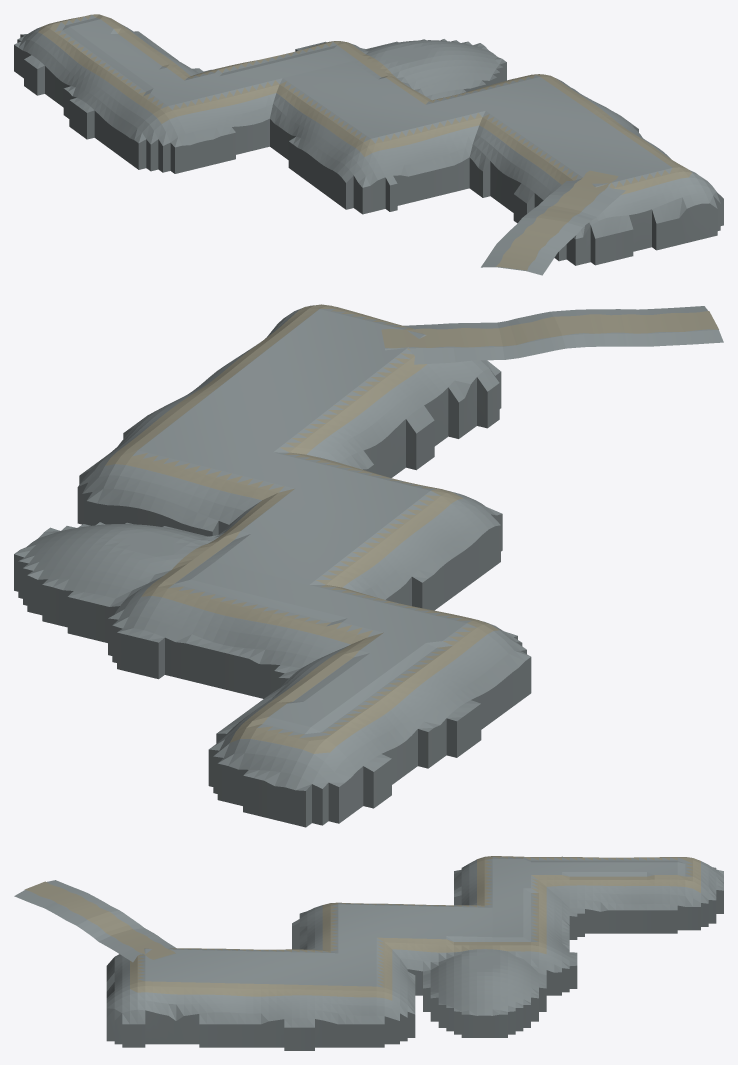
File: retreat_round2_exterior_runtime.glb
The picture shows the model from 3 angles, top to bottom: view 1: azimuth 30°, elevation 25°; view 2: azimuth 150°, elevation 25°; view 3: azimuth 270°, elevation 25°; orthographic projection. The views are drawn at different scales.
Visible parts, largest first — view 1: R2_Pleamar_Low_Closed_Shoulder, R2_Pleamar_Low_Soil_Shoulder, R2_Pleamar_Low_Cove_Continuation, R2_Pleamar_Low_Cove_Continuation_Support; view 2: R2_Pleamar_Low_Closed_Shoulder, R2_Pleamar_Low_Soil_Shoulder, R2_Pleamar_Low_Cove_Continuation_Support, R2_Pleamar_Low_Cove_Continuation; view 3: R2_Pleamar_Low_Closed_Shoulder, R2_Pleamar_Low_Soil_Shoulder, R2_Pleamar_Low_Cove_Continuation, R2_Pleamar_Low_Cove_Continuation_Support.
Part boxes in pixels (x1,y1,x2,y2): R2_Pleamar_Low_Closed_Shoulder: [14, 14, 723, 265]; R2_Pleamar_Low_Soil_Shoulder: [38, 14, 691, 194]; R2_Pleamar_Low_Cove_Continuation: [496, 170, 618, 270]; R2_Pleamar_Low_Cove_Continuation_Support: [481, 178, 625, 275]; R2_Pleamar_Low_Closed_Shoulder: [14, 305, 531, 827]; R2_Pleamar_Low_Soil_Shoulder: [105, 304, 499, 753]; R2_Pleamar_Low_Cove_Continuation_Support: [381, 306, 723, 364]; R2_Pleamar_Low_Cove_Continuation: [381, 311, 718, 348]; R2_Pleamar_Low_Closed_Shoulder: [106, 857, 723, 1050]; R2_Pleamar_Low_Soil_Shoulder: [130, 856, 700, 1000]; R2_Pleamar_Low_Cove_Continuation: [24, 881, 175, 959]; R2_Pleamar_Low_Cove_Continuation_Support: [14, 880, 176, 962].
Bounding box in the file's own units: 15.6 × 2.28 × 27.61.
